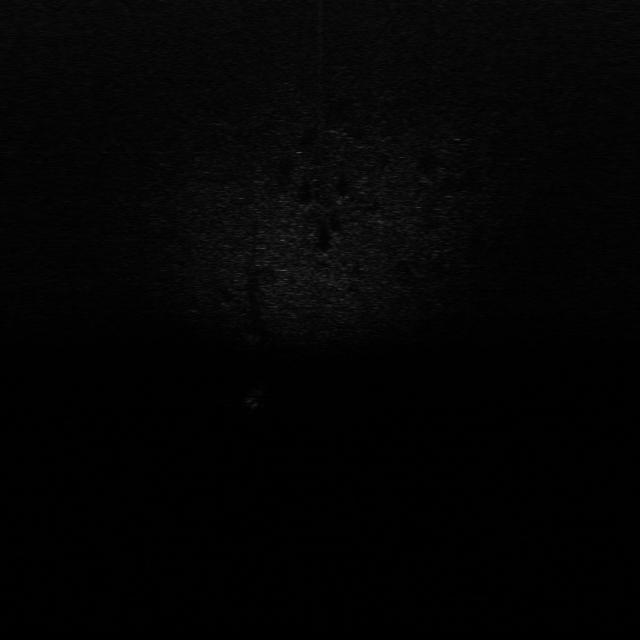human body: (244, 377, 270, 417)
